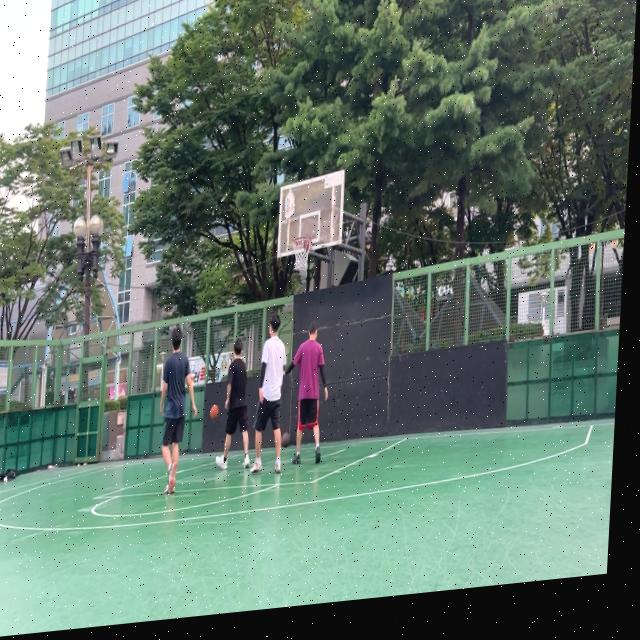basketball: (210, 404, 219, 419)
hoop: (291, 235, 313, 273)
